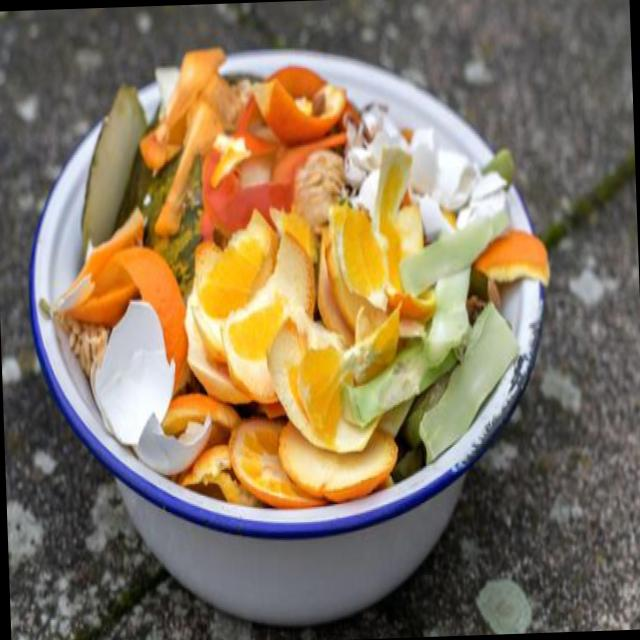paper: (198, 208, 366, 453), (74, 290, 208, 478)
